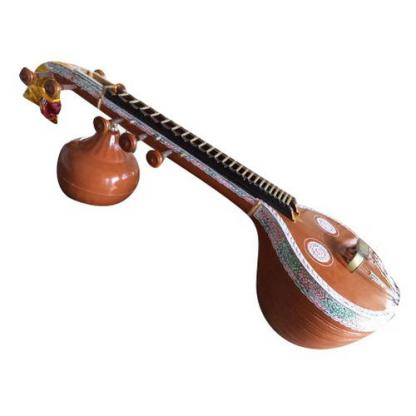Veena: (28, 49, 392, 310)
